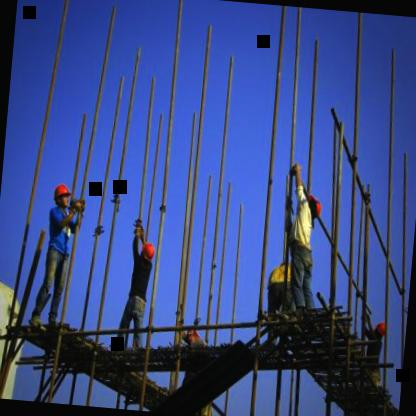helmet: (302, 190, 324, 224), (50, 180, 72, 210), (134, 238, 157, 266), (370, 317, 388, 342)
